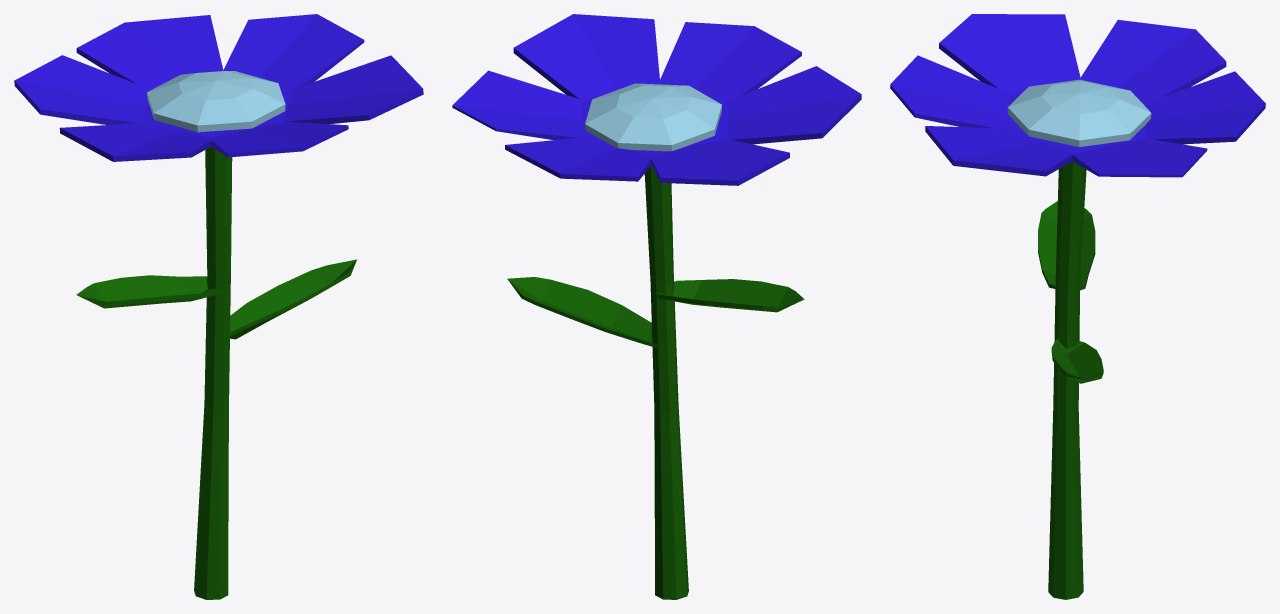
File: flower-4.glb
3 views of the same model, side by side, from view 1: azimuth 30°, elevation 25°; view 2: azimuth 150°, elevation 25°; view 3: azimuth 270°, elevation 25° (orthographic).
Visible parts, largest first — view 1: Flower 4; view 2: Flower 4; view 3: Flower 4.
Boxes of the visible parts, x1,y1,x2,y2 form: Flower 4: (14, 14, 423, 599); Flower 4: (452, 14, 861, 599); Flower 4: (890, 14, 1265, 599).
Bounding box in the file's own units: 1.05 × 1.59 × 1.06.
